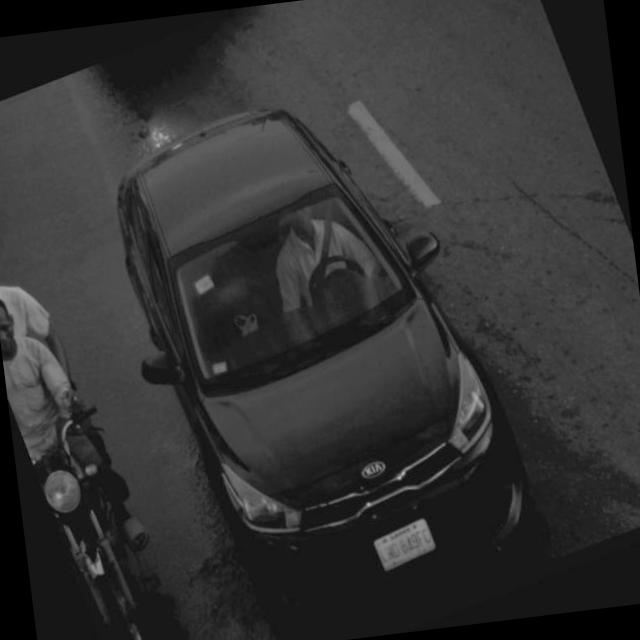person_with_seatbelt: (255, 186, 392, 328)
